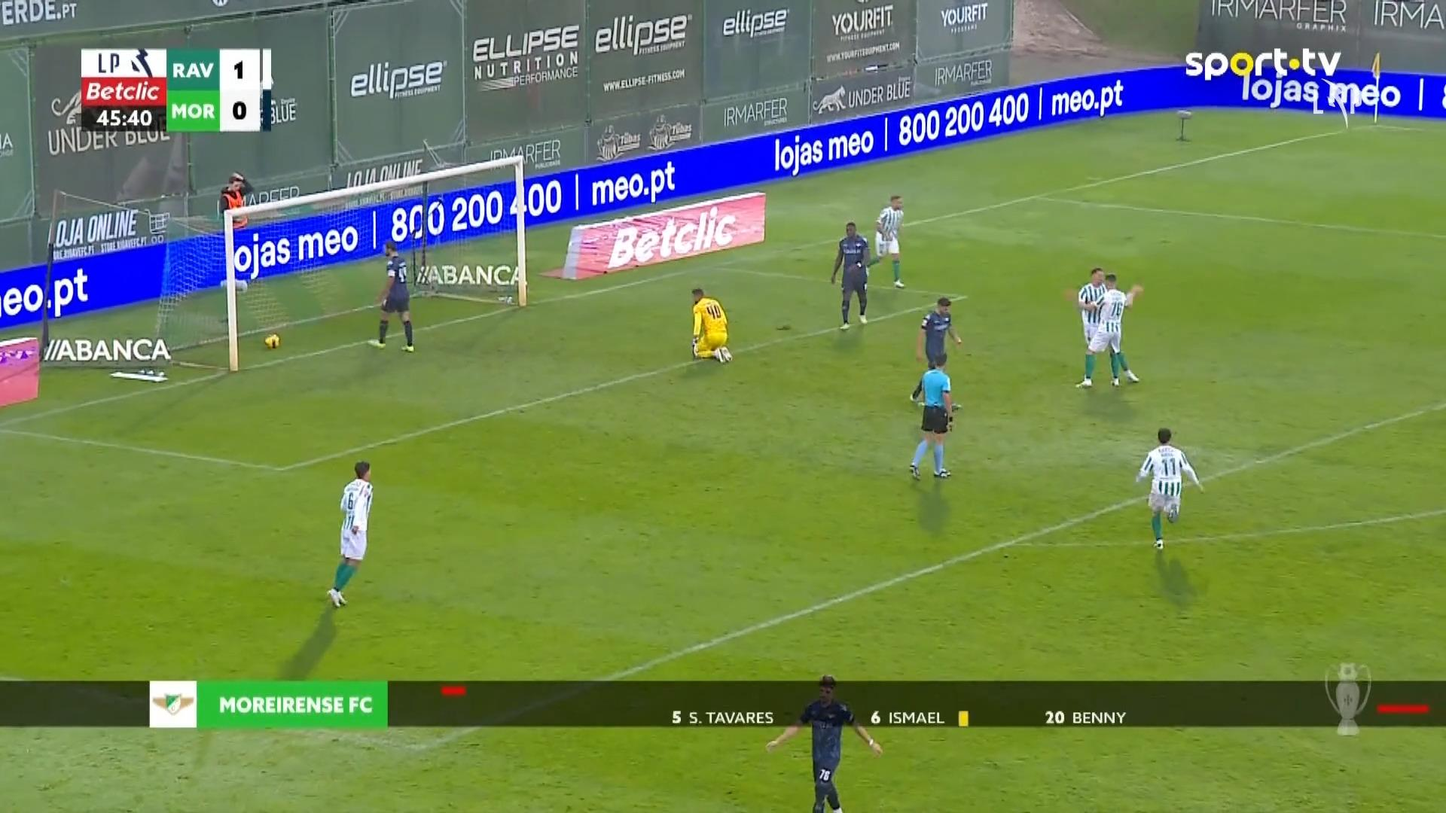ball: (264, 333, 279, 349), (1165, 505, 1177, 522)
goalkeeper: (689, 286, 733, 364)
player: (764, 673, 883, 811), (1135, 427, 1204, 550), (1075, 269, 1141, 388), (325, 460, 373, 608), (1089, 273, 1144, 387), (908, 296, 962, 406), (367, 240, 415, 352), (830, 220, 873, 330), (872, 193, 906, 288)
referee: (907, 352, 955, 480)
